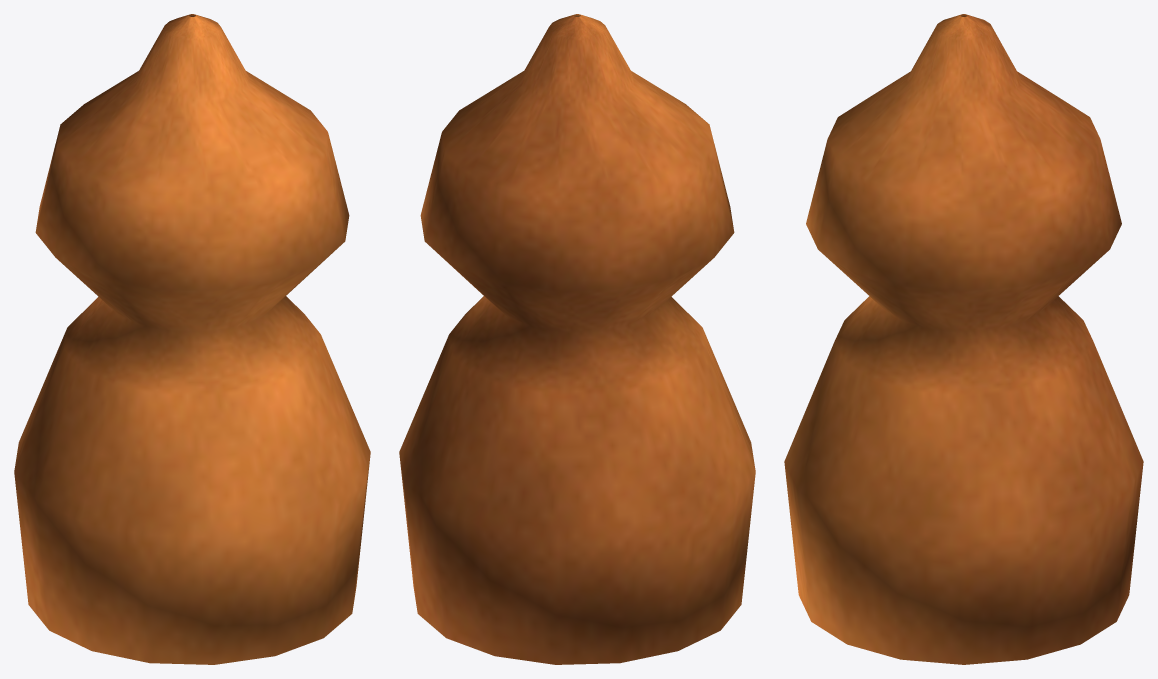
File: alambique_artesanal.obj
3 renders of one model, left to right at view 1: azimuth 30°, elevation 25°; view 2: azimuth 150°, elevation 25°; view 3: azimuth 270°, elevation 25°, orthographic.
Visible parts, largest first — view 1: alambique_artesanal; view 2: alambique_artesanal; view 3: alambique_artesanal.
Boxes of the visible parts, bbox=[...] form: alambique_artesanal: bbox=[14, 14, 370, 664]; alambique_artesanal: bbox=[399, 14, 755, 664]; alambique_artesanal: bbox=[784, 14, 1143, 664].
Size of the model in its own units: 1 by 1.82 by 1.
1 material, 1 textured.
